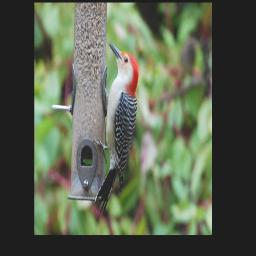Woodpecker: (92, 42, 140, 217)
